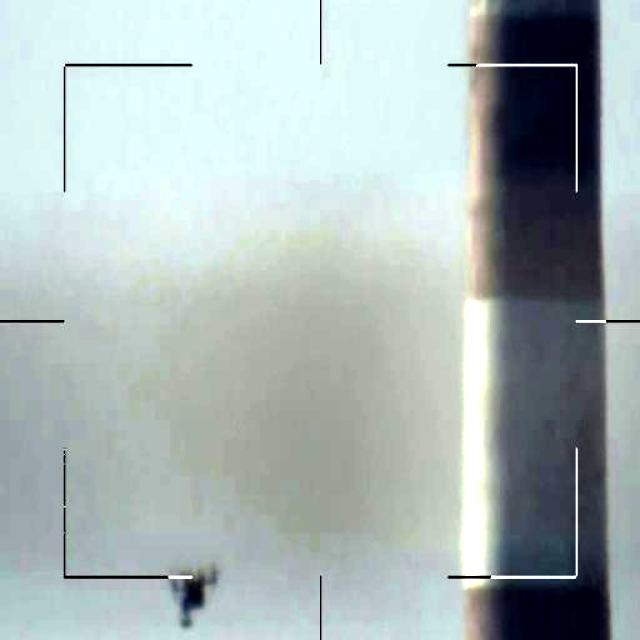bird: (166, 556, 236, 635)
